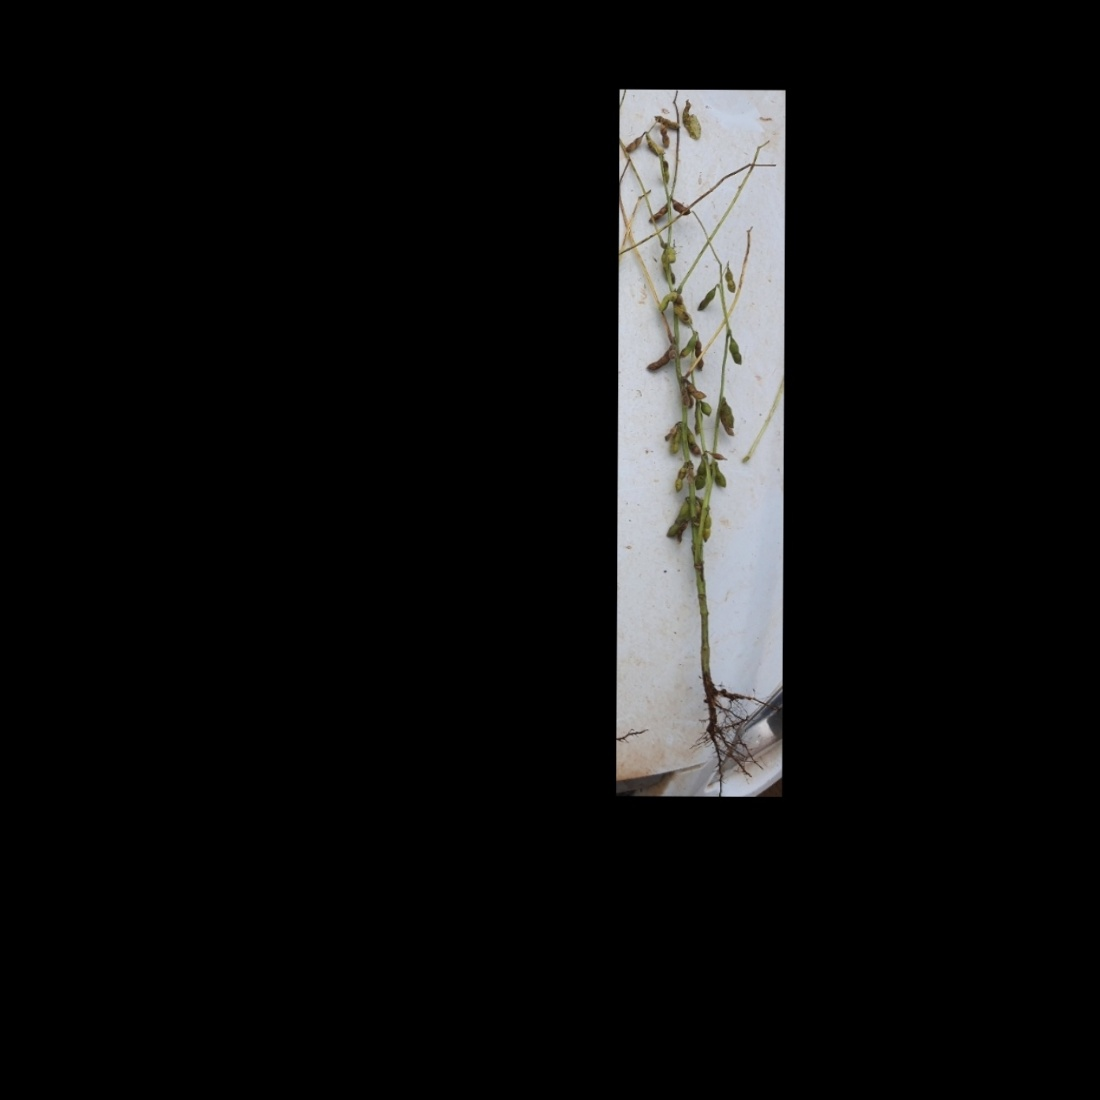pod: (641, 342, 674, 375), (695, 283, 719, 314), (646, 199, 670, 227), (691, 459, 709, 493), (655, 289, 675, 318), (655, 110, 680, 131), (624, 130, 645, 154), (678, 332, 697, 359), (667, 195, 690, 216), (721, 266, 737, 294), (674, 463, 689, 493), (713, 462, 728, 490), (701, 511, 713, 544), (728, 337, 742, 365), (656, 125, 671, 148), (661, 157, 672, 185), (666, 246, 679, 267), (700, 400, 713, 420)
soy: (618, 98, 774, 779)
